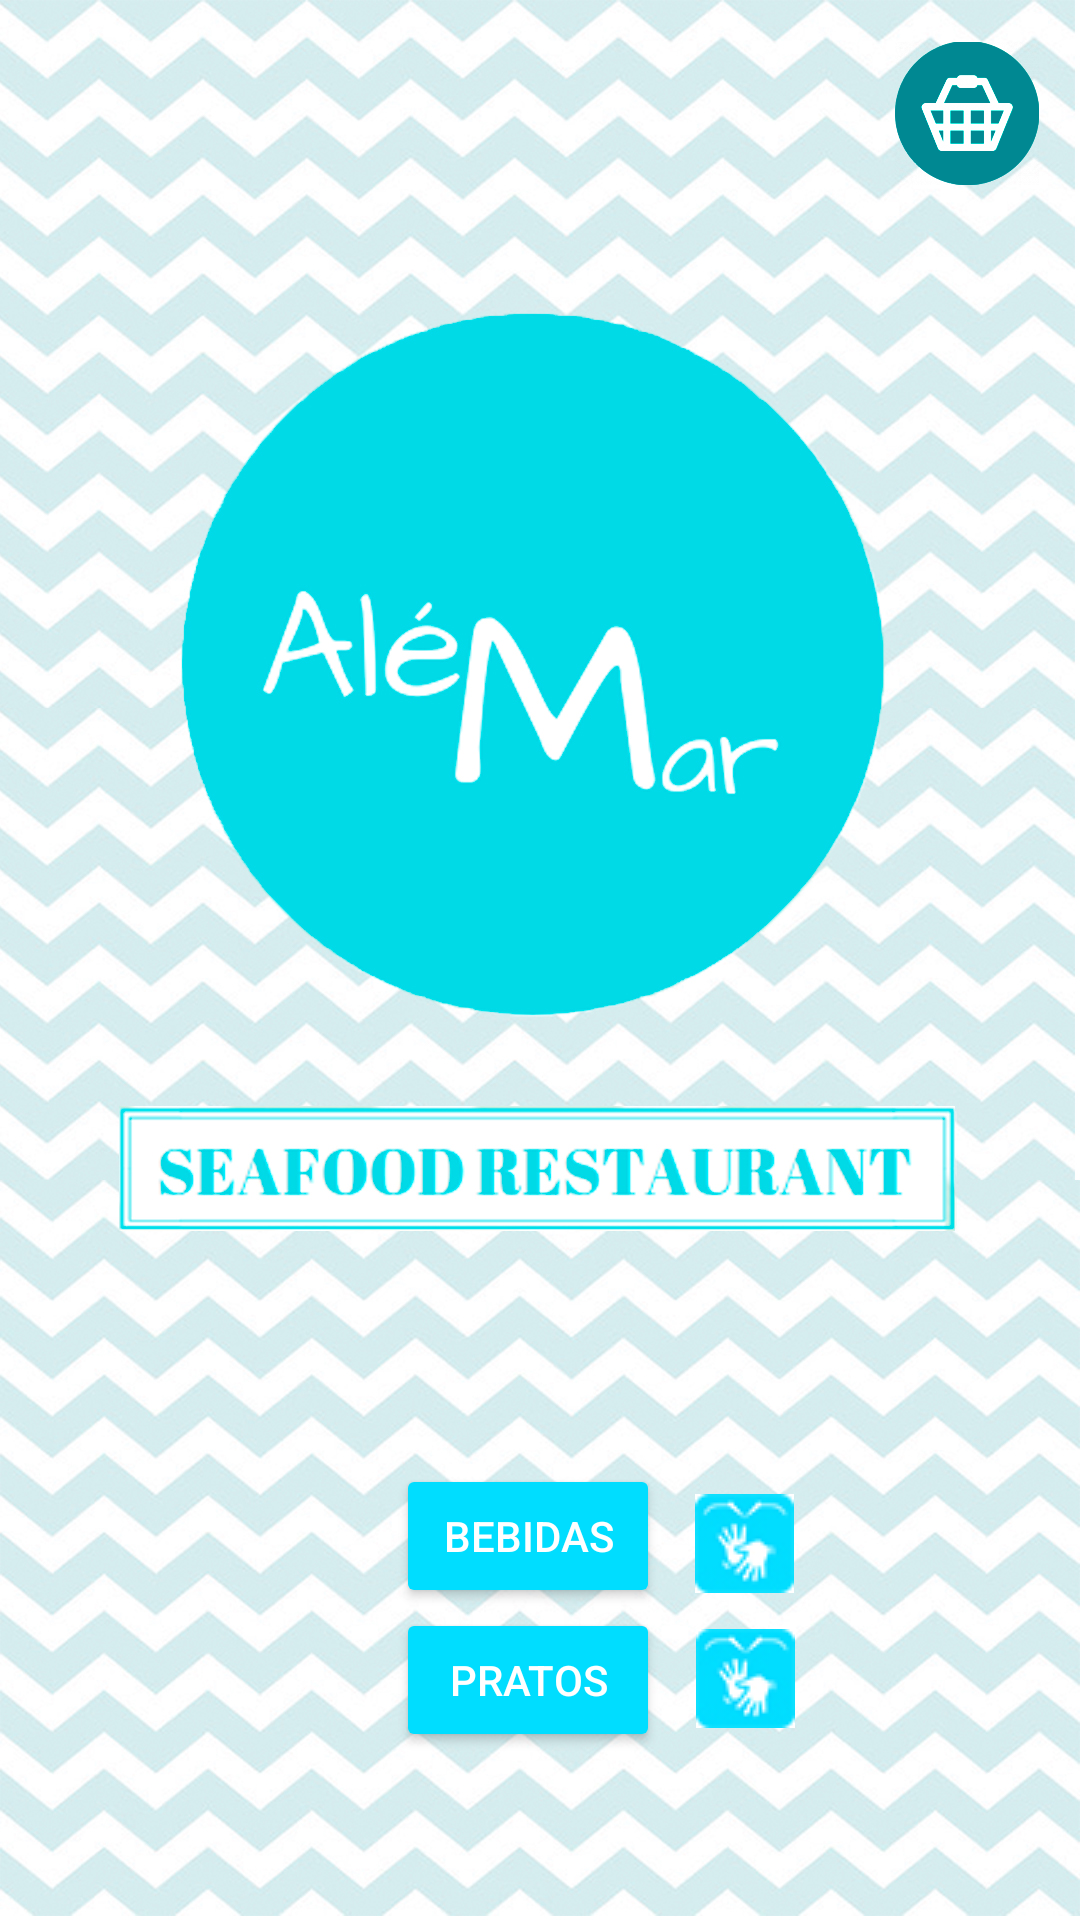

Icon click points for this 1080 × 1920 phone screenshot, format point (x, y):
carrinho: point (966, 114)
